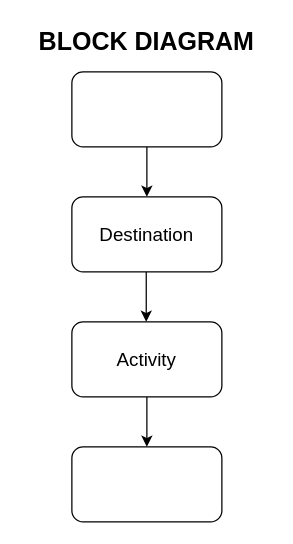
The diagram is 293 pixels wide and 544 high, and some of its shapes have lost their labels. Each missing label, with the box of its shape:
Passenger: (71, 446, 222, 522)
TravelPackage: (71, 71, 222, 147)
